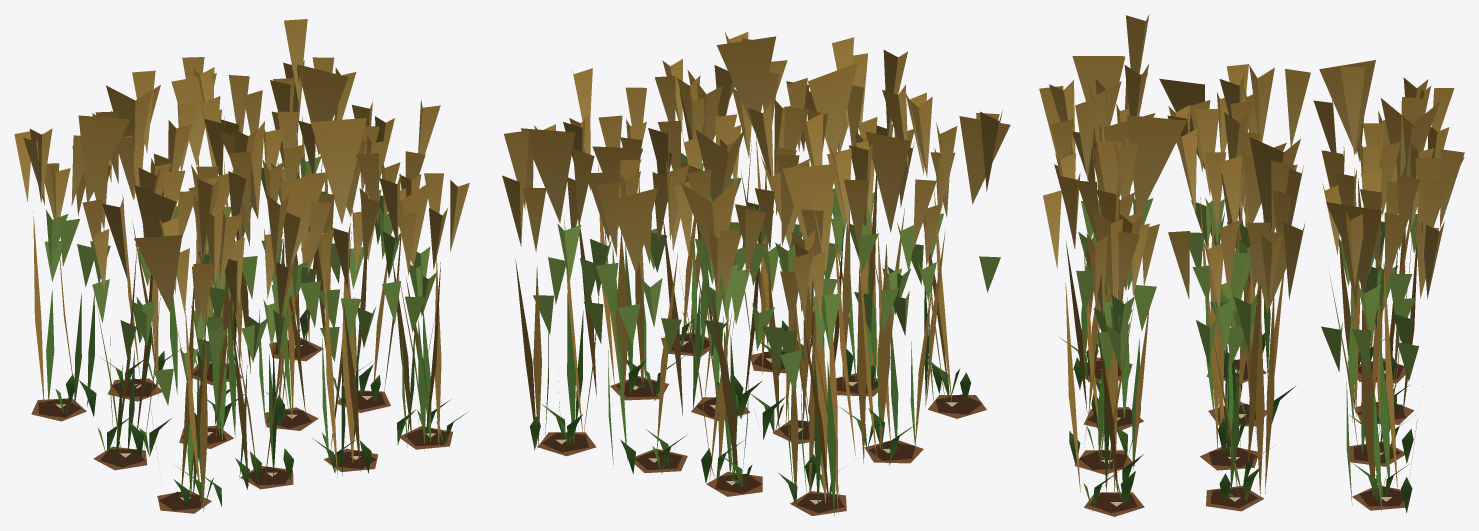
Rendered from wheat.glb.
3 views of the same model, side by side, from view 1: azimuth 30°, elevation 25°; view 2: azimuth 150°, elevation 25°; view 3: azimuth 270°, elevation 25° (orthographic). The views are drawn at different scales.
Parts seen in each view (by area): view 1: crop-wheat-3, crop-wheat-2, crop-wheat-3-far, crop-wheat-0, crop-wheat-2-far, crop-wheat-1; view 2: crop-wheat-3, crop-wheat-3-far, crop-wheat-2, crop-wheat-0, crop-wheat-2-far, crop-wheat-1; view 3: crop-wheat-3, crop-wheat-3-far, crop-wheat-2, crop-wheat-0, crop-wheat-1, crop-wheat-2-far.
Boxes of the visible parts, x1,y1,x2,y2 form: crop-wheat-3: [14, 19, 469, 511]; crop-wheat-2: [44, 163, 435, 494]; crop-wheat-3-far: [78, 64, 431, 461]; crop-wheat-0: [31, 337, 452, 513]; crop-wheat-2-far: [74, 156, 427, 493]; crop-wheat-1: [55, 308, 468, 507]; crop-wheat-3: [502, 32, 1002, 513]; crop-wheat-3-far: [521, 36, 1010, 503]; crop-wheat-2: [533, 153, 1000, 516]; crop-wheat-0: [537, 331, 986, 515]; crop-wheat-2-far: [557, 163, 933, 495]; crop-wheat-1: [530, 310, 970, 503]; crop-wheat-3: [1039, 14, 1464, 503]; crop-wheat-3-far: [1072, 56, 1464, 496]; crop-wheat-2: [1076, 166, 1418, 511]; crop-wheat-0: [1073, 357, 1413, 516]; crop-wheat-1: [1058, 332, 1413, 512]; crop-wheat-2-far: [1098, 221, 1415, 456].
Bounding box in the file's own units: 1.89 × 1.62 × 1.72.
